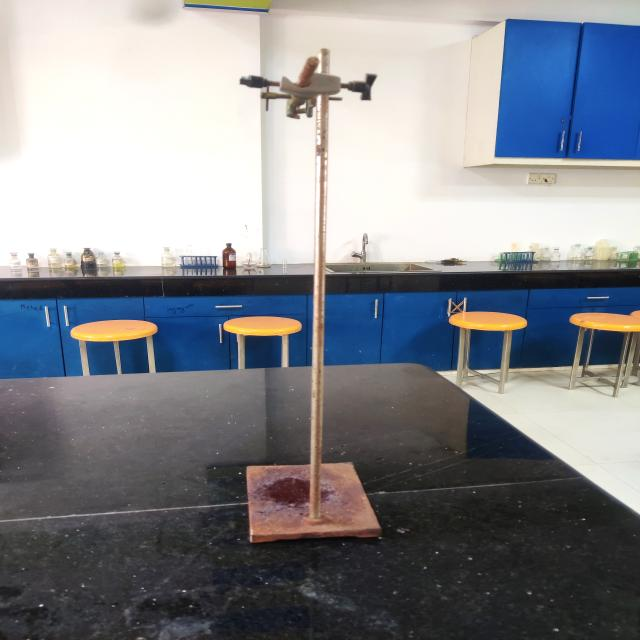Burette_Stands: (213, 35, 429, 584)
